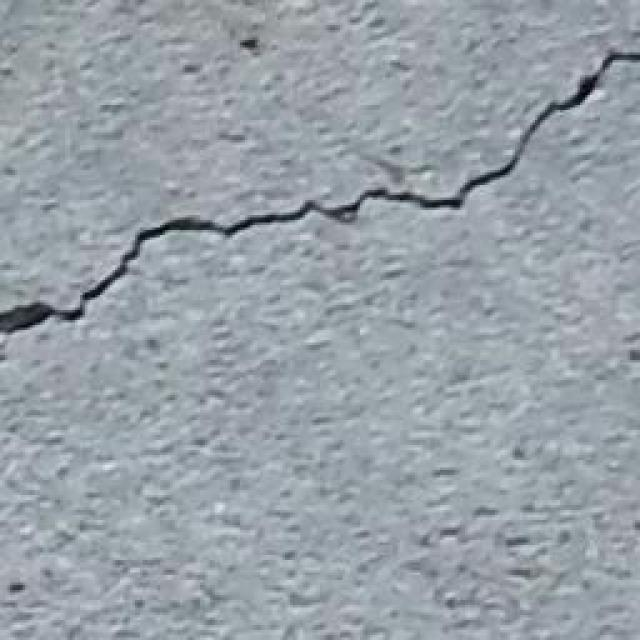concrete-crack: (0, 45, 640, 337)
